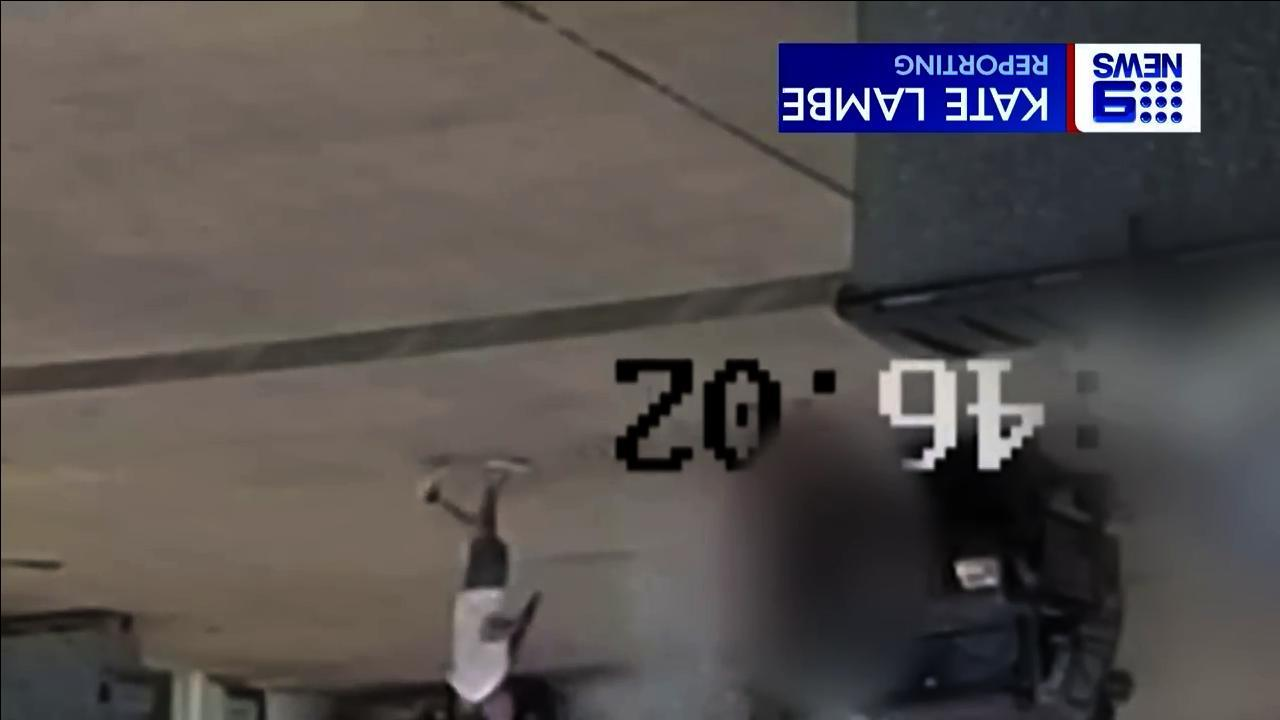gun: (494, 586, 555, 672)
